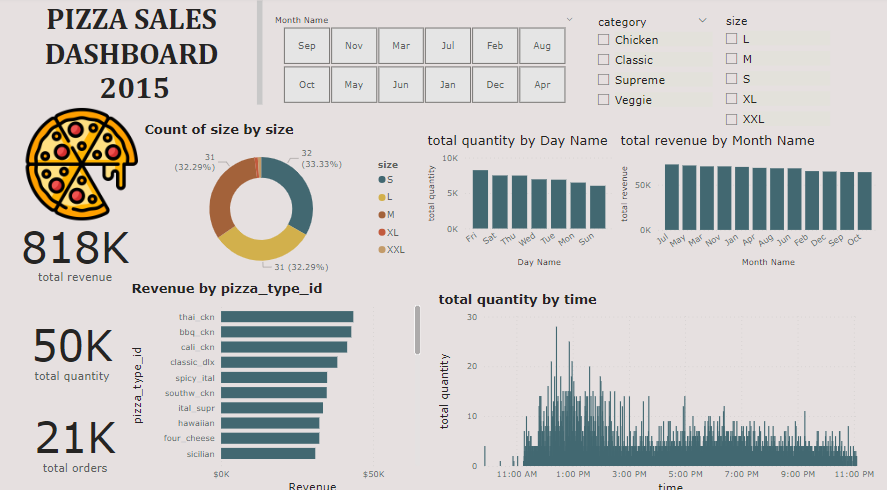

What the dashboard file says about the page in this screenshot:
{"tool":"powerbi","page":{"name":"Page 1","canvas":[1280,720],"ordinal":0},"visuals":[{"type":"card","fields":{"Values":["Merge1.total revenue"]},"box":[0,308,222,116],"z":0},{"type":"card","fields":{"Values":["Merge1.total quantity"]},"box":[12,444,190,128],"z":1000},{"type":"card","fields":{"Values":["pizzas.Measure"]},"box":[16,562,190,158],"z":2000},{"type":"slicer","fields":{"Values":["pizza_types.category"]},"box":[851.2,20,182.5,148.8],"z":3000},{"type":"slicer","fields":{"Values":["orders.Month Name"]},"box":[385.8,20.1,454.6,139.2],"z":4000},{"type":"donutChart","fields":{"Category":["pizzas.size"],"Y":["CountNonNull(pizzas.size)"]},"box":[206,178,394,230],"z":5000},{"type":"clusteredBarChart","fields":{"Category":["Merge1.pizza_type_id"],"Y":["Sum(Merge1.Revenue)"]},"box":[187.9,407.7,426.1,312],"z":6000},{"type":"columnChart","fields":{"Category":["orders.time"],"Y":["Merge1.total quantity"]},"box":[629,423,644,297],"z":7000},{"type":"columnChart","title":"Average quantity per Day ","fields":{"Category":["orders.Day Name"],"Y":["Merge1.total quantity average per Day Name"]},"box":[614,194,278,200],"z":8000},{"type":"slicer","fields":{"Values":["pizzas.size"]},"box":[1035.4,18.7,168.5,193],"z":9000},{"type":"image","box":[34,150,172,182],"z":10000},{"type":"textbox","box":[16.7,0,369.6,178.7],"z":11000},{"type":"columnChart","fields":{"Category":["orders.Month Name"],"Y":["Merge1.total revenue"]},"box":[892,194,382,200],"z":12000}]}

Visuals, with their boxes in screenshot pixels (x1, y1, x2, y2), scaled from the page's 1280x720 canvas onto the 887x490 screenshot:
card - Merge1.total revenue: box=[0, 210, 154, 289]
card - Merge1.total quantity: box=[8, 302, 140, 389]
card - pizzas.Measure: box=[11, 382, 143, 489]
slicer - pizza_types.category: box=[590, 14, 716, 115]
slicer - orders.Month Name: box=[267, 14, 582, 108]
donutChart - pizzas.size x CountNonNull(pizzas.size): box=[143, 121, 416, 278]
clusteredBarChart - Merge1.pizza_type_id x Sum(Merge1.Revenue): box=[130, 277, 425, 489]
columnChart - orders.time x Merge1.total quantity: box=[436, 288, 882, 489]
"Average quantity per Day " columnChart: box=[425, 132, 618, 268]
slicer - pizzas.size: box=[717, 13, 834, 144]
image: box=[24, 102, 143, 226]
textbox: box=[12, 0, 268, 122]
columnChart - orders.Month Name x Merge1.total revenue: box=[618, 132, 883, 268]
